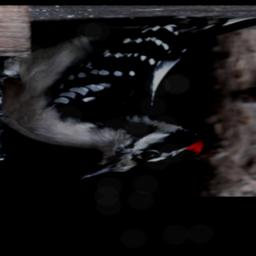Woodpecker: (0, 17, 256, 179)
